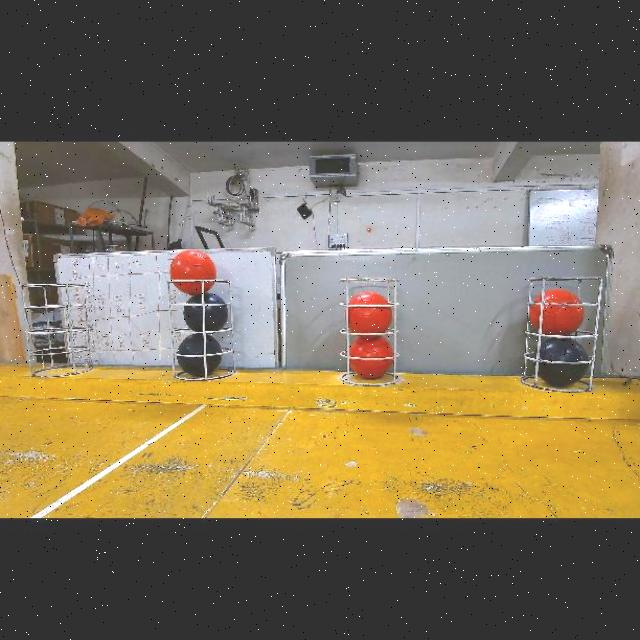P: (534, 338, 590, 385), (176, 332, 222, 376), (183, 291, 229, 330)
R: (529, 287, 584, 334), (170, 249, 217, 294), (349, 335, 393, 379), (349, 290, 392, 333)
S: (330, 274, 404, 388), (526, 272, 598, 380), (170, 274, 236, 380), (30, 281, 91, 381)
